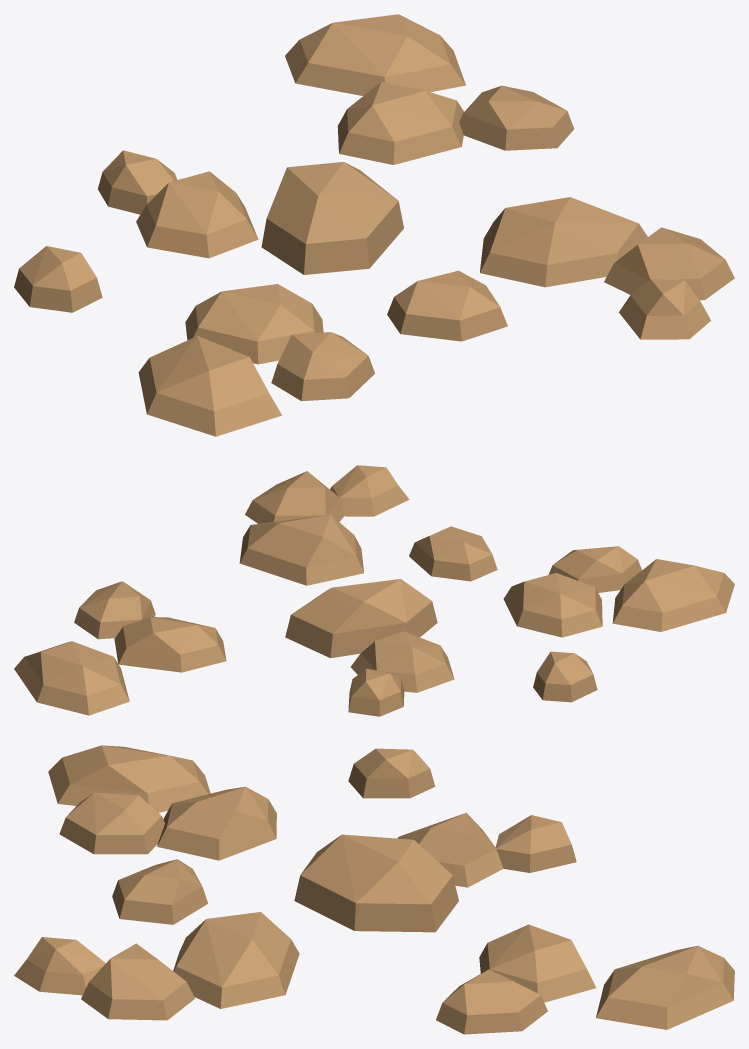
File: rock__pebbles3_dirt_light.glb
The picture shows the model from 3 angles, top to bottom: view 1: azimuth 30°, elevation 25°; view 2: azimuth 150°, elevation 25°; view 3: azimuth 270°, elevation 25°; orthographic projection. The views are drawn at different scales.
Parts seen in each view (by area): view 1: pebbles3.dirt.light; view 2: pebbles3.dirt.light; view 3: pebbles3.dirt.light.
Boxes of the visible parts, box(x1,y1,x2,y2) form: pebbles3.dirt.light: box(14, 14, 734, 436); pebbles3.dirt.light: box(14, 465, 734, 716); pebbles3.dirt.light: box(14, 745, 734, 1034).
Bounding box in the file's own units: 2.31 × 0.2169 × 2.56.
1 material, 1 textured.
